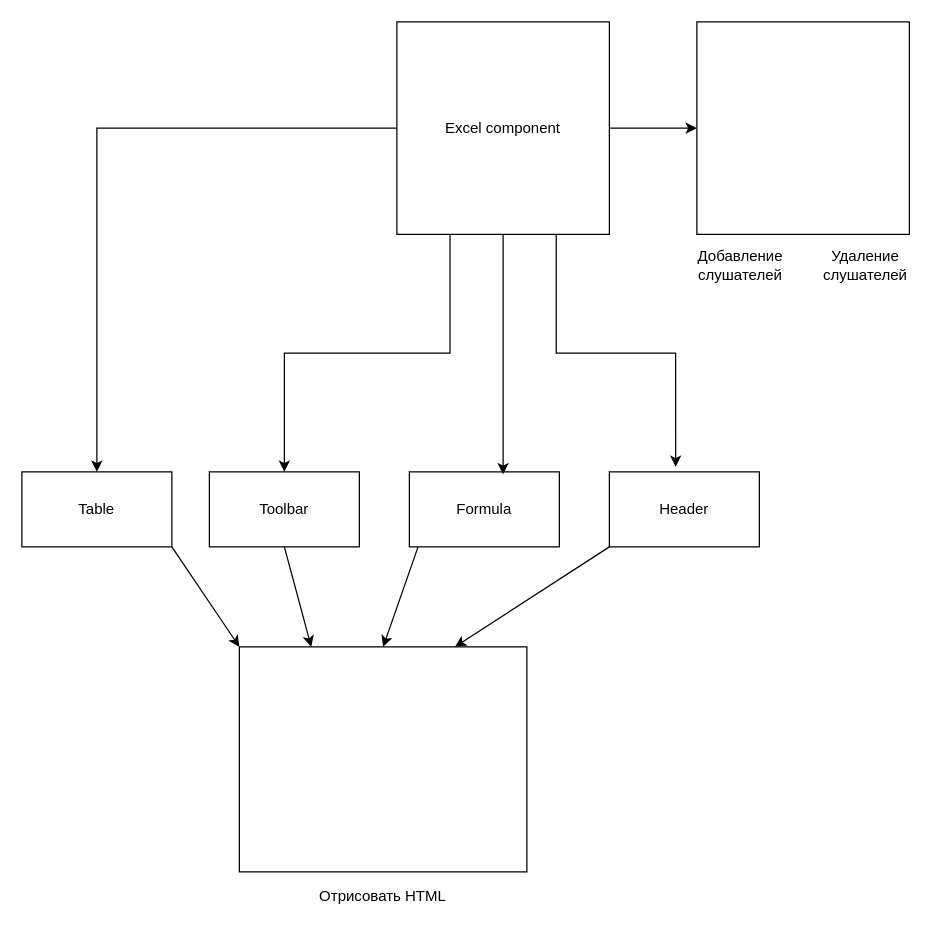
Some shapes in this 931 by 931 pixel diagram are drawn without their labels. The centre of each missing label's shape, as x and y in pixels:
"DOM listener" belongs at point (802, 127).
"Excel" belongs at point (382, 759).
